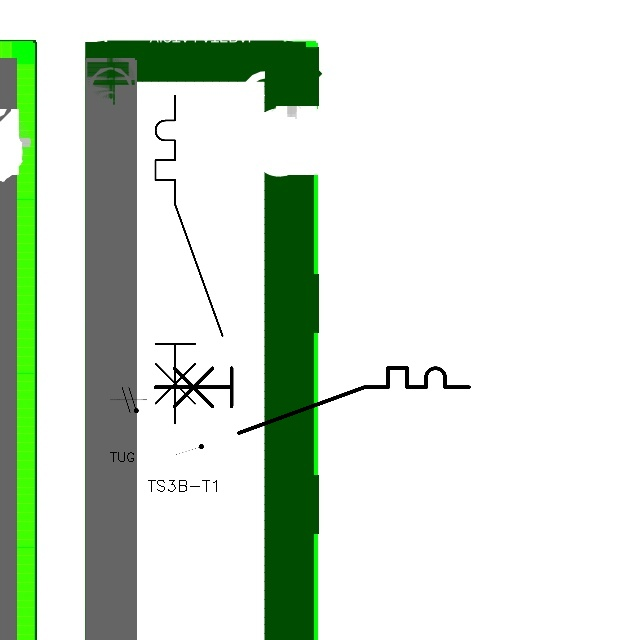interruptor_termomagnetico: (147, 87, 231, 432), (147, 360, 477, 440)
